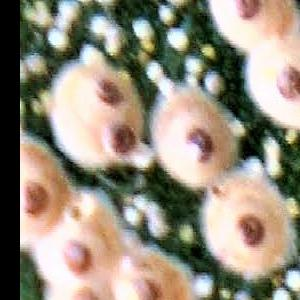Femea: (154, 103, 233, 180), (215, 187, 285, 270), (48, 116, 152, 171), (44, 64, 140, 116), (20, 140, 59, 247), (43, 223, 102, 288), (254, 42, 299, 124), (211, 0, 291, 43), (118, 258, 182, 299)
Linfa: (124, 192, 176, 242), (162, 26, 192, 51), (131, 15, 156, 43), (191, 271, 213, 297), (55, 1, 83, 20), (22, 53, 46, 75), (204, 68, 223, 94), (89, 15, 112, 36), (48, 9, 71, 30), (46, 29, 69, 49), (181, 54, 201, 74), (284, 267, 299, 288), (158, 5, 174, 24)
Macho: (257, 134, 282, 180), (141, 69, 160, 116)
